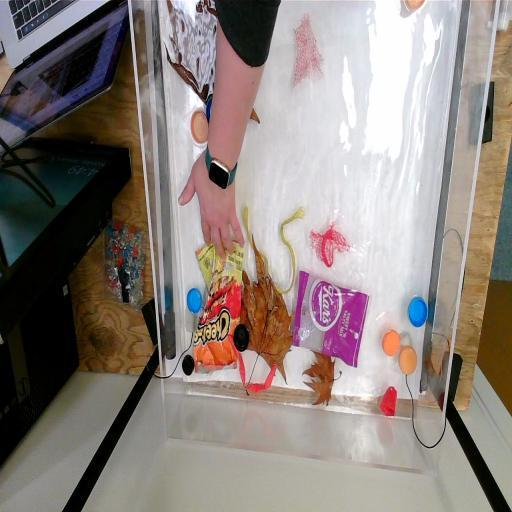Bottle Cap: (186, 106, 210, 147), (407, 293, 428, 328), (399, 346, 420, 379), (232, 319, 250, 354), (382, 329, 400, 358), (400, 0, 431, 16), (186, 285, 202, 315), (180, 352, 196, 380)
Cone Cap: (378, 384, 398, 419)
Leaf: (240, 247, 296, 381), (161, 2, 219, 108), (302, 350, 342, 412)
Netting: (288, 12, 324, 89), (307, 220, 352, 270)
Plastic Bag: (294, 268, 370, 368), (196, 248, 242, 374)
Plastic Strand: (240, 204, 304, 290), (235, 354, 283, 394)
